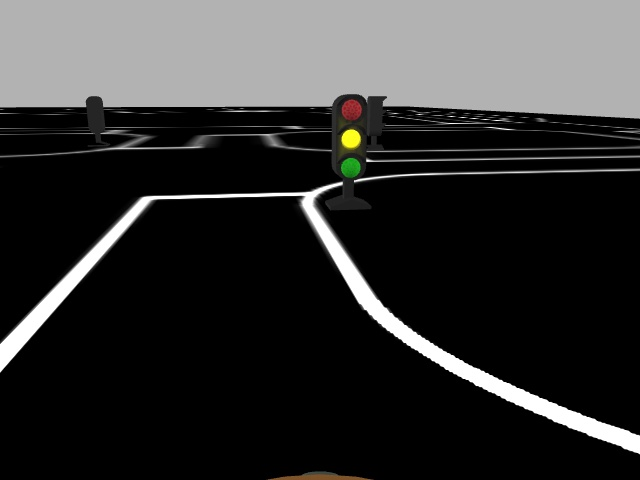yellow_light: (331, 93, 369, 180)
